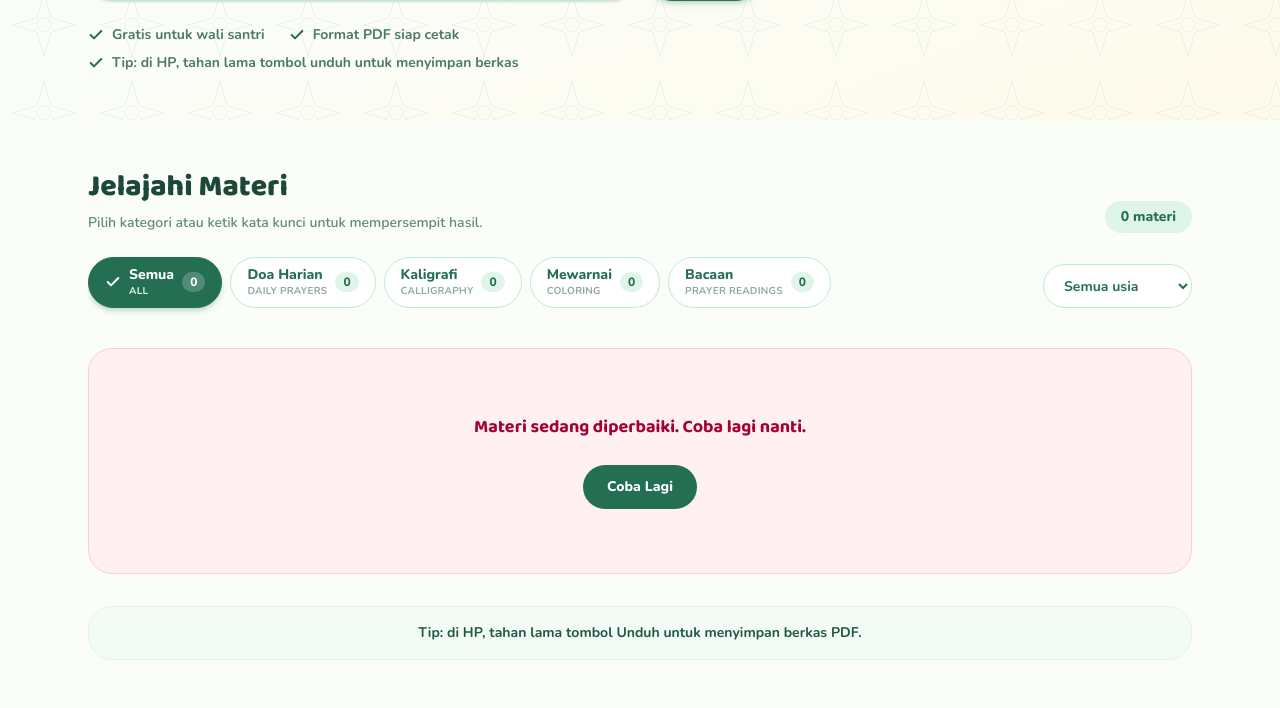
ResourcesDashboard (public resources page) › shows the error state and recovers via the retry button
(page scrolled)
expect the text "Materi sedang diperbaiki. Coba lagi nanti." is shown: met, box [474,413,806,441]
What coordinates should you click on to do the following:
click the button "Coba Lagi"
I would click on:
 (640, 487)
Its box is [583,465,697,509].
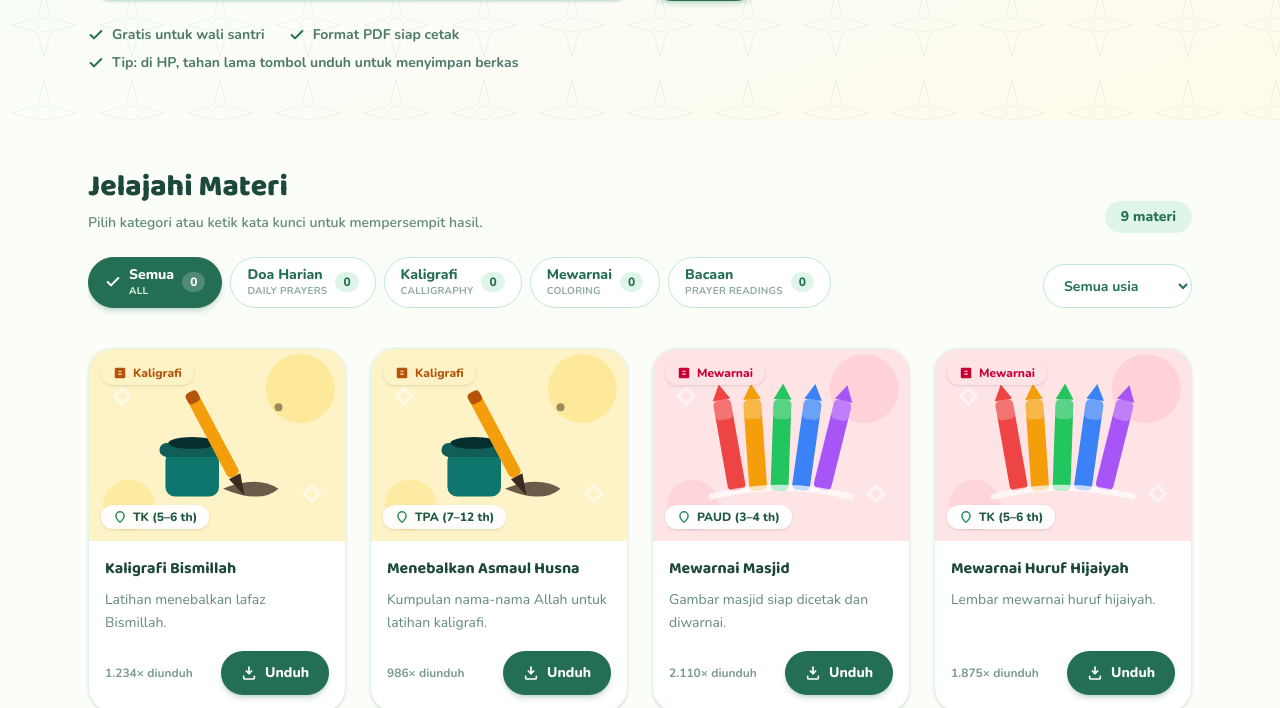
expect the link "Kaligrafi Bismillah" is shown: met, box [105,557,236,581]
